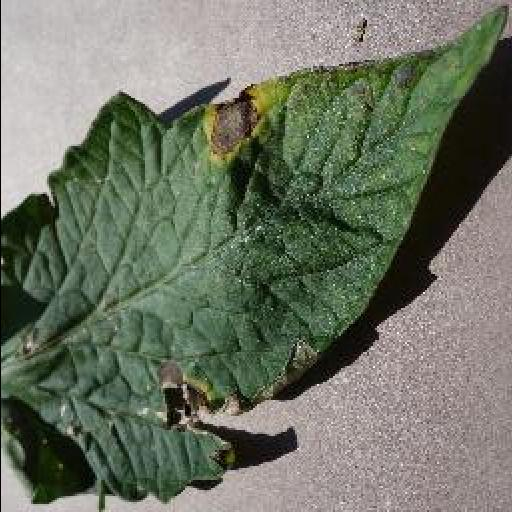disease_tomato: (0, 10, 504, 511)
